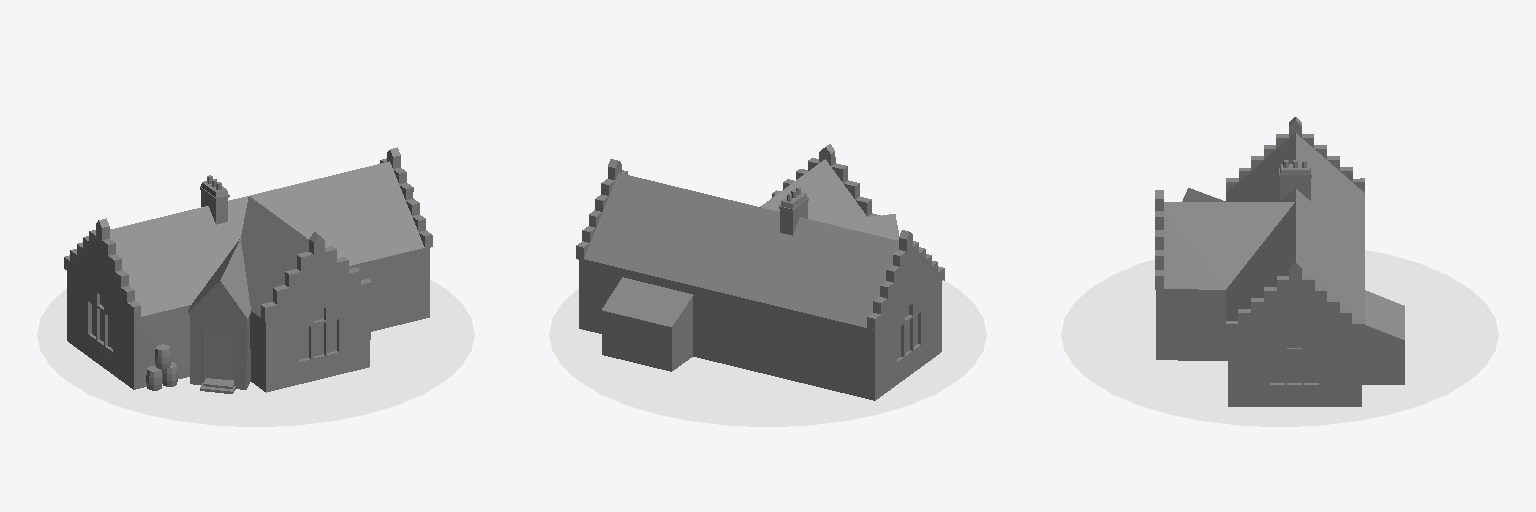
The model's file is house.obj.
3 views of the same model, side by side, from view 1: azimuth 30°, elevation 25°; view 2: azimuth 150°, elevation 25°; view 3: azimuth 270°, elevation 25° (orthographic).
Visible parts, largest first — view 1: House, Cylinder001; view 2: House, Cylinder001; view 3: House, Cylinder001.
Boxes of the visible parts, box(x1,y1,x2,y2) form: House: box(64, 147, 432, 393); Cylinder001: box(37, 279, 474, 426); House: box(576, 144, 944, 400); Cylinder001: box(549, 280, 986, 426); House: box(1155, 117, 1404, 406); Cylinder001: box(1061, 250, 1498, 426).
Size of the model in its own units: 2 by 0.7943 by 2.